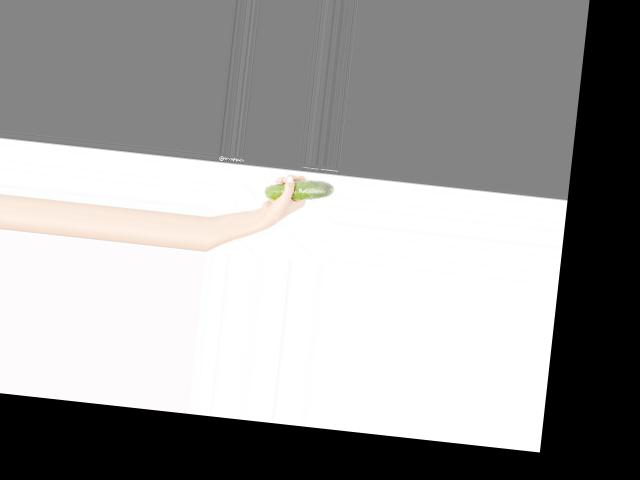cucumber: (264, 174, 335, 205)
